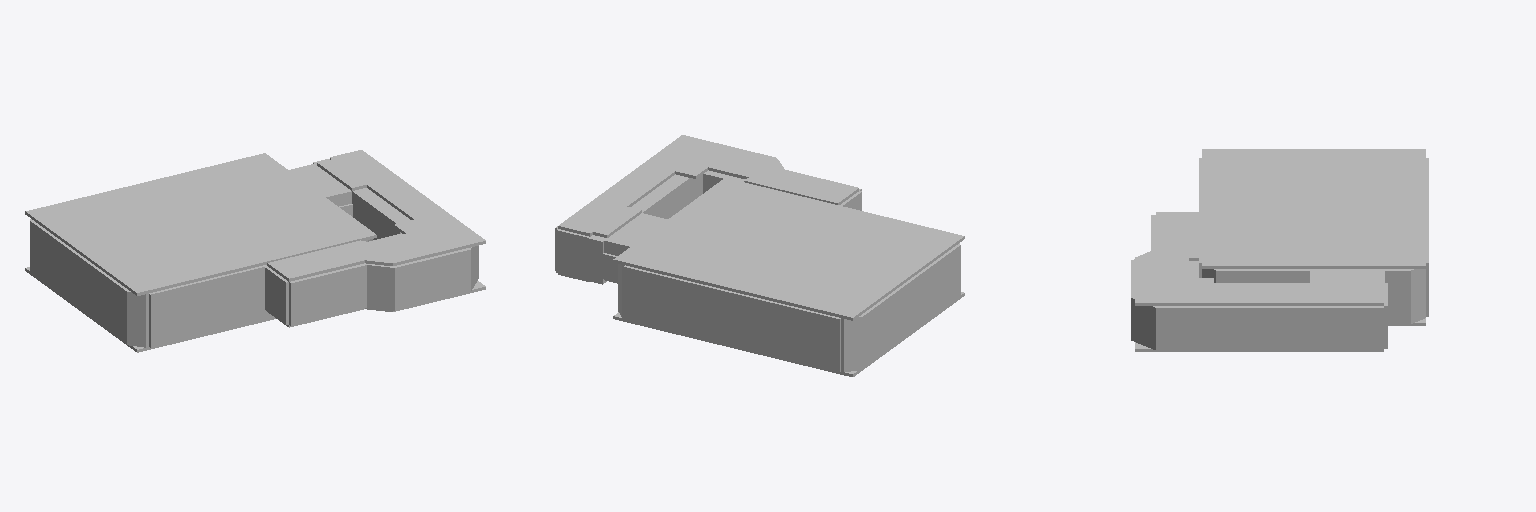
File: DevSrc.obj
The picture shows the model from 3 angles: view 1: azimuth 30°, elevation 25°; view 2: azimuth 150°, elevation 25°; view 3: azimuth 270°, elevation 25°; orthographic projection.
Parts seen in each view (by area): view 1: entity0_brush3, entity0_brush9, entity0_brush0, entity0_brush14, entity0_brush16, entity0_brush26, entity0_brush27, entity0_brush13, entity0_brush24, entity0_brush15, entity0_brush17, entity0_brush37 (+4 smaller); view 2: entity0_brush3, entity0_brush2, entity0_brush0, entity0_brush26, entity0_brush27, entity0_brush13, entity0_brush24, entity0_brush41, entity0_brush37, entity0_brush17, entity0_brush1, entity0_brush40 (+1 smaller); view 3: entity0_brush3, entity0_brush21, entity0_brush26, entity0_brush27, entity0_brush13, entity0_brush30, entity0_brush29, entity0_brush17, entity0_brush20, entity0_brush6, entity0_brush37, entity0_brush39.
Part boxes in pixels (left/top/right/bottom): entity0_brush3: left=25, top=153, right=376, bottom=295; entity0_brush9: left=149, top=265, right=266, bottom=347; entity0_brush0: left=30, top=220, right=128, bottom=344; entity0_brush14: left=289, top=263, right=366, bottom=325; entity0_brush16: left=393, top=248, right=470, bottom=310; entity0_brush26: left=330, top=150, right=445, bottom=219; entity0_brush27: left=394, top=212, right=485, bottom=255; entity0_brush13: left=267, top=245, right=364, bottom=281; entity0_brush24: left=352, top=188, right=411, bottom=239; entity0_brush15: left=365, top=263, right=394, bottom=310; entity0_brush17: left=366, top=234, right=433, bottom=265; entity0_brush37: left=289, top=164, right=351, bottom=206; entity0_brush3: left=613, top=178, right=964, bottom=320; entity0_brush2: left=623, top=265, right=840, bottom=372; entity0_brush0: left=861, top=245, right=960, bottom=369; entity0_brush26: left=558, top=163, right=674, bottom=236; entity0_brush27: left=644, top=135, right=734, bottom=178; entity0_brush13: left=762, top=169, right=858, bottom=204; entity0_brush24: left=632, top=174, right=689, bottom=218; entity0_brush41: left=556, top=229, right=588, bottom=280; entity0_brush37: left=604, top=213, right=667, bottom=255; entity0_brush17: left=708, top=148, right=775, bottom=178; entity0_brush1: left=841, top=316, right=862, bottom=371; entity0_brush40: left=588, top=235, right=606, bottom=284; entity0_brush3: left=1202, top=149, right=1425, bottom=268; entity0_brush21: left=1156, top=306, right=1383, bottom=349; entity0_brush26: left=1214, top=288, right=1383, bottom=305; entity0_brush27: left=1135, top=278, right=1213, bottom=305; entity0_brush13: left=1156, top=212, right=1198, bottom=248; entity0_brush30: left=1216, top=269, right=1310, bottom=282; entity0_brush29: left=1385, top=269, right=1410, bottom=323; entity0_brush17: left=1135, top=258, right=1188, bottom=277; entity0_brush20: left=1131, top=298, right=1155, bottom=349; entity0_brush6: left=1411, top=269, right=1425, bottom=323; entity0_brush37: left=1310, top=271, right=1384, bottom=282; entity0_brush39: left=1310, top=280, right=1378, bottom=287.
Bounding box in the file's own units: 3520 × 624 × 2824.